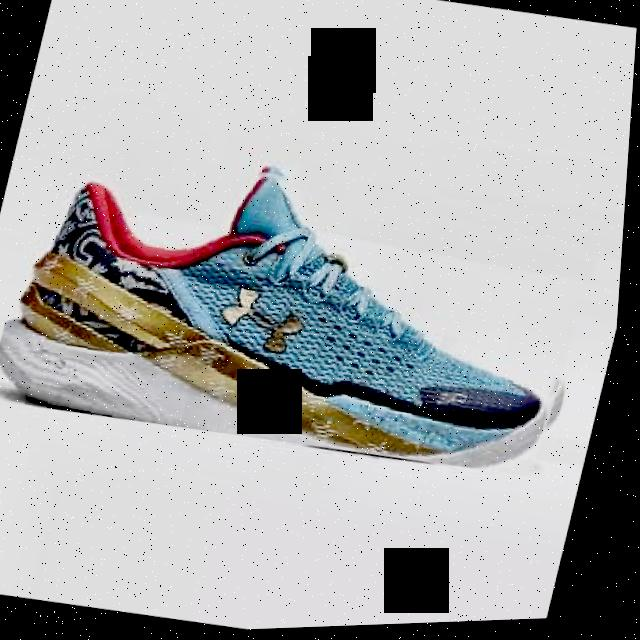shoe: (0, 116, 619, 500)
